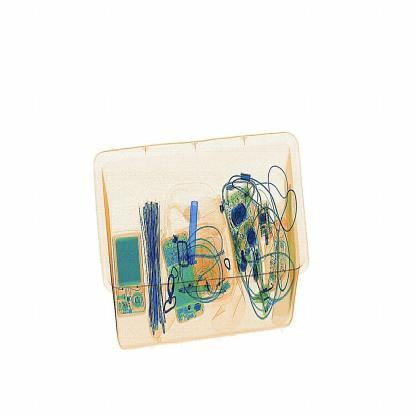pliers: (183, 191, 206, 270)
